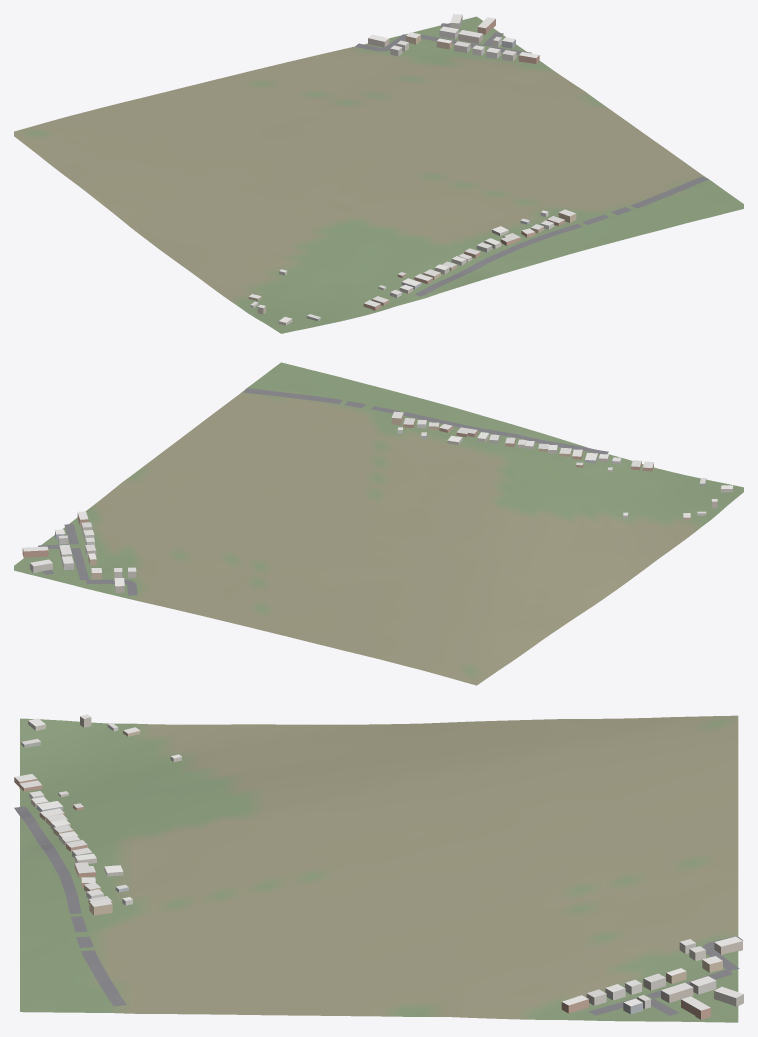
3 renders of one model, top to bottom at view 1: azimuth 30°, elevation 25°; view 2: azimuth 150°, elevation 25°; view 3: azimuth 270°, elevation 25°, orthographic. The views are drawn at different scales.
Visible parts, largest first — view 1: prim0, prim1, prim2; view 2: prim0, prim1, prim2; view 3: prim0, prim1, prim2.
Boxes of the visible parts, x1=… form: prim0: x1=14, y1=16, x2=743, y2=333; prim1: x1=248, y1=14, x2=576, y2=325; prim2: x1=355, y1=23, x2=708, y2=296; prim0: x1=14, y1=362, x2=743, y2=685; prim1: x1=22, y1=411, x2=733, y2=592; prim2: x1=38, y1=388, x2=608, y2=595; prim0: x1=20, y1=715, x2=738, y2=1022; prim1: x1=14, y1=714, x2=743, y2=1019; prim2: x1=14, y1=806, x2=742, y2=1015.
Size of the model in its own units: 518 by 28.08 by 520.
